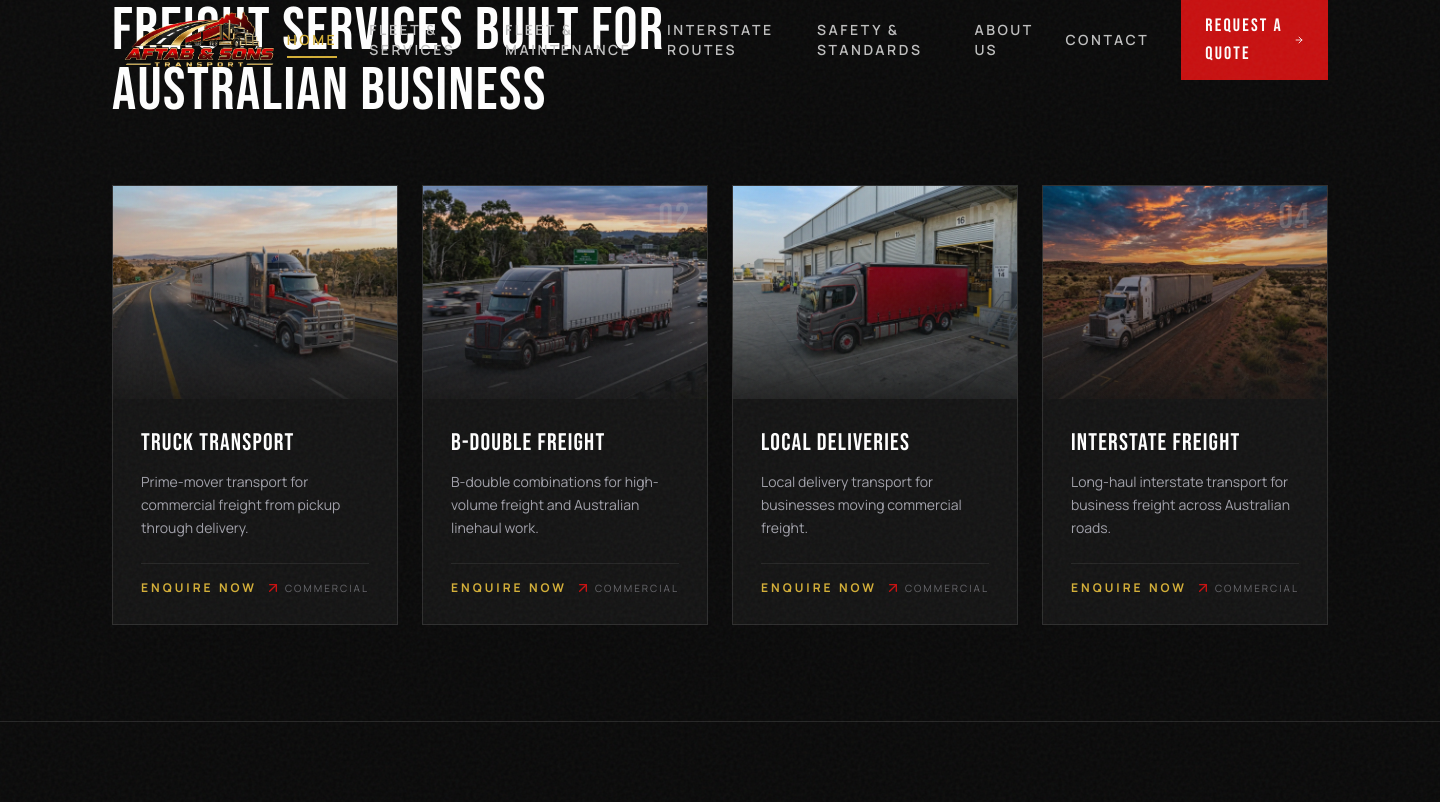
it: service enquiry preserves the selected service in the quote form
The width and height of the screenshot is (1440, 802).
(page scrolled)
Click the link with test id "service-card-b-double-freight" at (565, 292), box [422, 185, 708, 625]
(page scrolled)
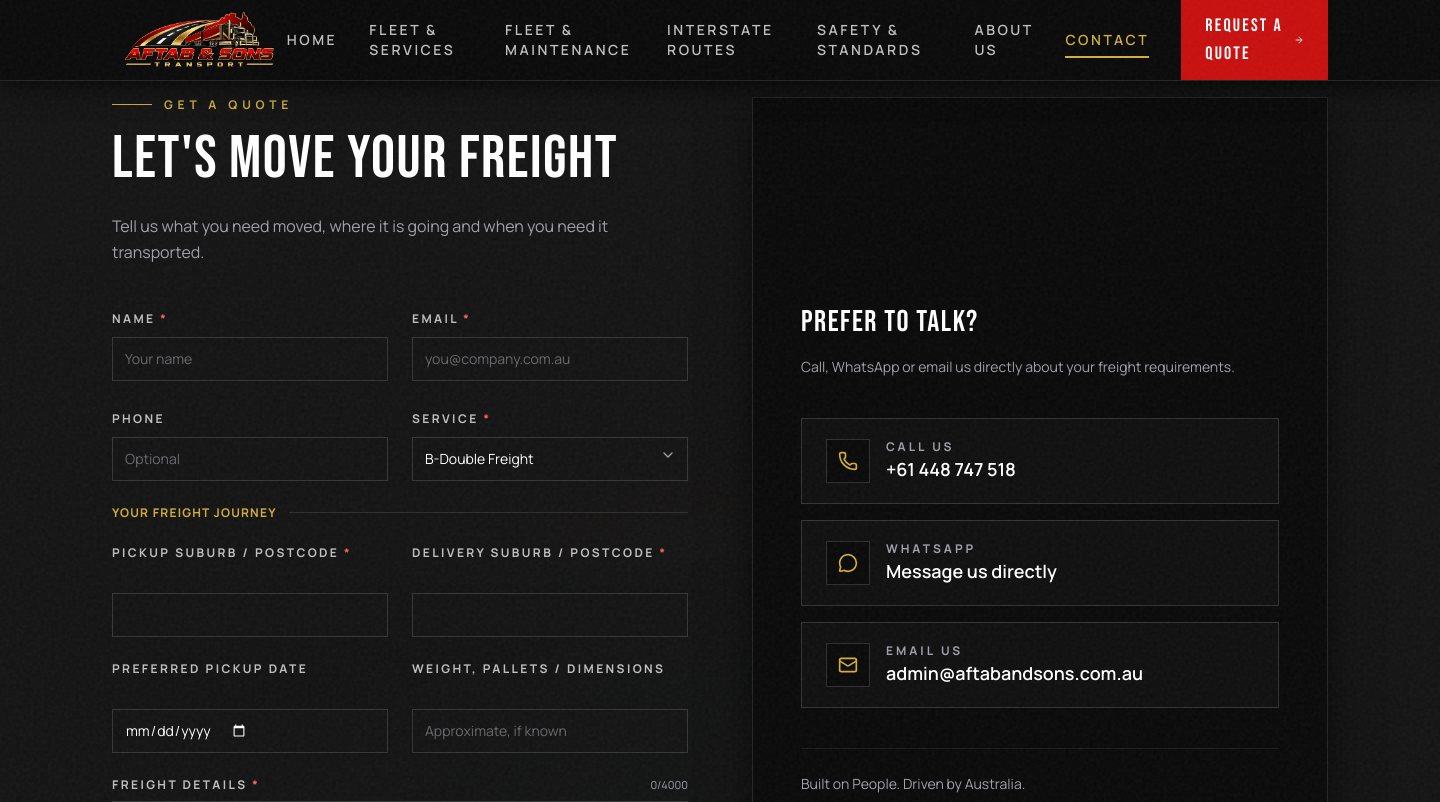
Expected: the dropdown with test id "quote-service-select" shows "B-Double Freight", [412, 436, 688, 480]
